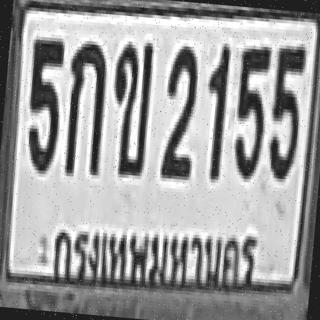A01: (62, 36, 108, 175)
A02: (105, 38, 153, 174)
N01: (200, 44, 230, 178)
N02: (158, 43, 200, 175)
N05: (21, 33, 64, 171), (230, 42, 270, 177), (266, 42, 305, 180)
P04: (44, 211, 262, 300)
